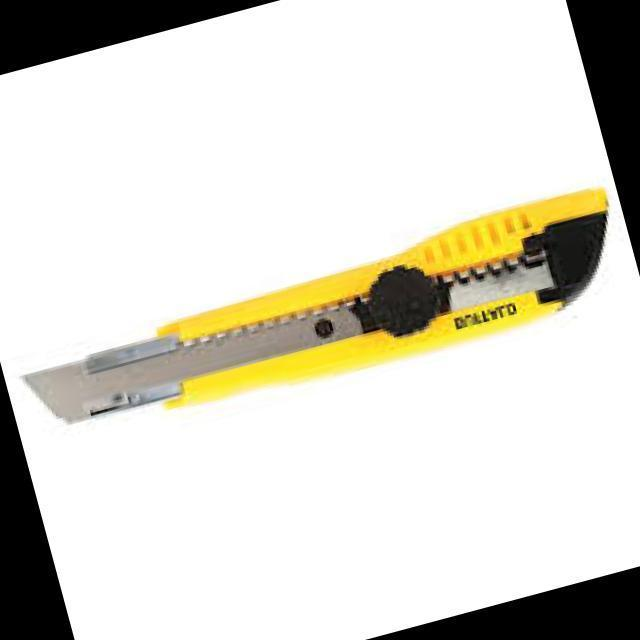cutter: (10, 180, 636, 462)
